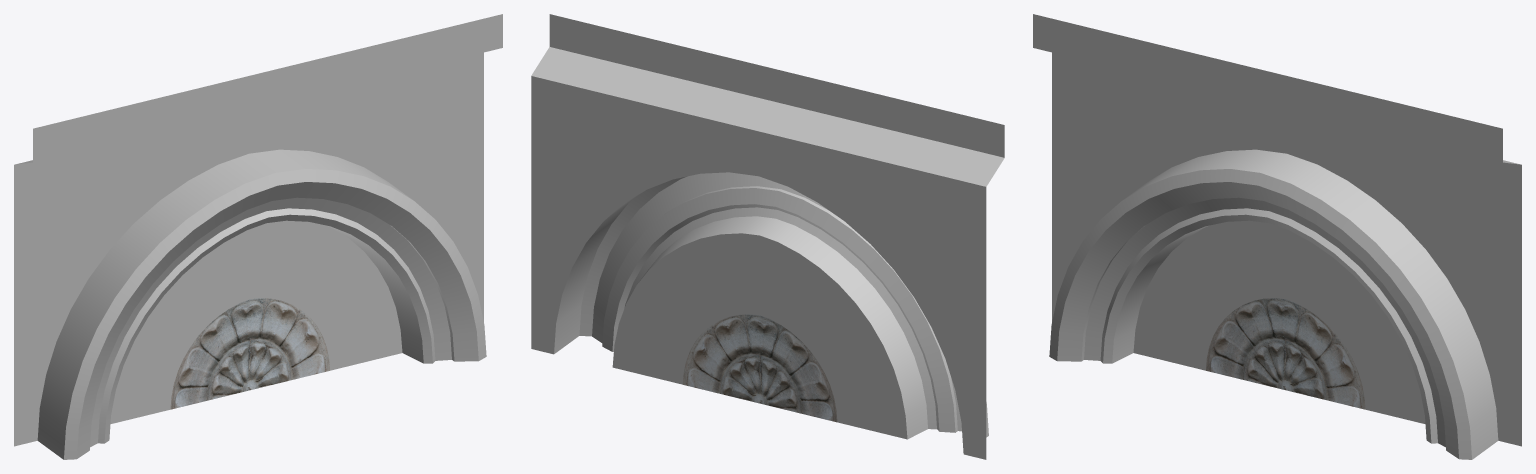
File: ArchClosed.FBX
3 renders of one model, left to right at view 1: azimuth 30°, elevation 25°; view 2: azimuth 150°, elevation 25°; view 3: azimuth 330°, elevation 25°, orthographic. The views are drawn at different scales.
Parts seen in each view (by area): view 1: ArchClosed; view 2: ArchClosed; view 3: ArchClosed.
Part boxes in pixels (x1=…): ArchClosed: x1=14, y1=14, x2=502, y2=459; ArchClosed: x1=531, y1=14, x2=1004, y2=459; ArchClosed: x1=1033, y1=14, x2=1521, y2=459.
Bounding box in the file's own units: 6.03 × 4.07 × 0.6408.
